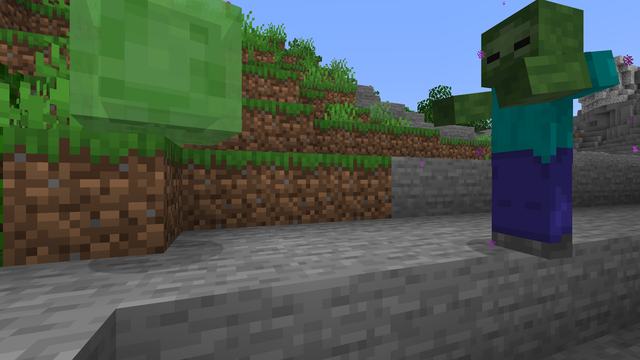slimes: (41, 3, 228, 145)
zombies: (472, 2, 593, 263)
